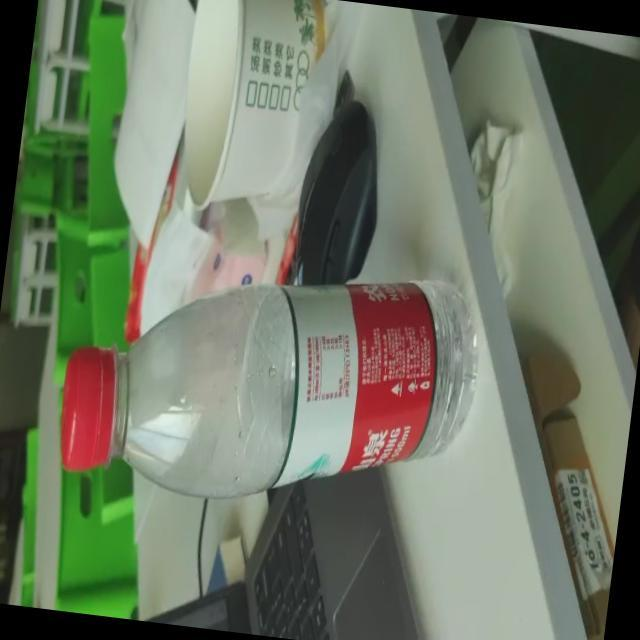good: (51, 205, 482, 533)
